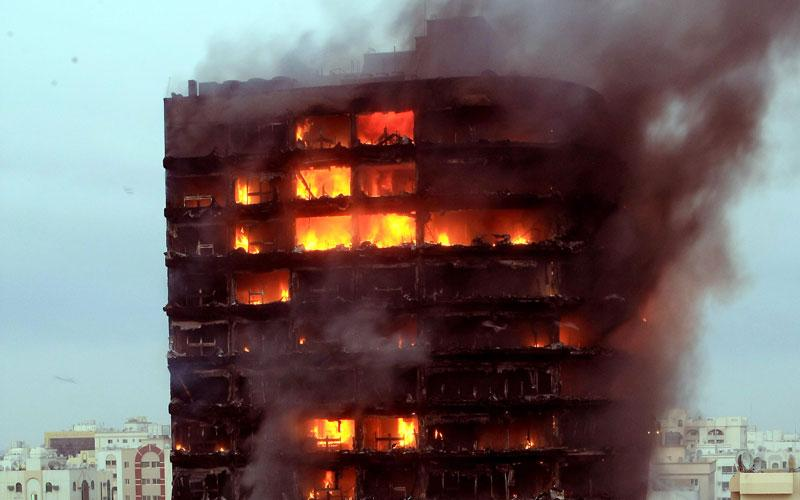Fire: (201, 109, 579, 465)
